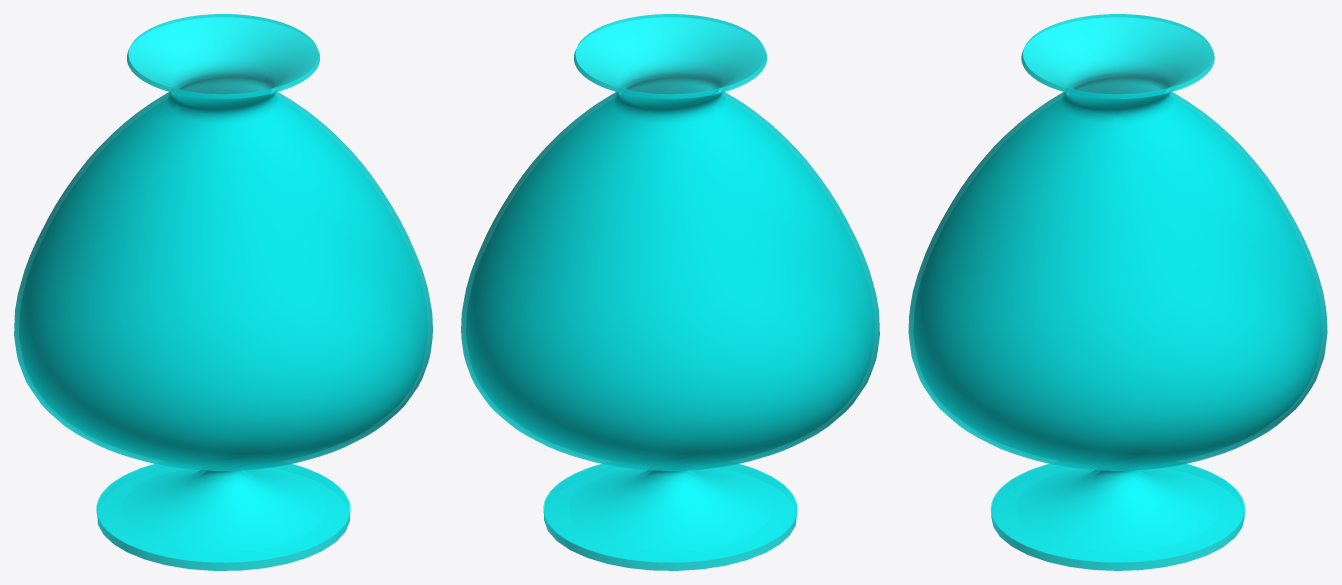
File: Vaso 1.fbx
3 renders of one model, left to right at view 1: azimuth 30°, elevation 25°; view 2: azimuth 150°, elevation 25°; view 3: azimuth 270°, elevation 25°, orthographic.
Parts seen in each view (by area): view 1: Object_1; view 2: Object_1; view 3: Object_1.
Part boxes in pixels (left/top/right/bottom): Object_1: left=14, top=14, right=432, bottom=570; Object_1: left=461, top=14, right=879, bottom=570; Object_1: left=908, top=14, right=1327, bottom=570.
Bounding box in the file's own units: 265 × 323 × 265.
